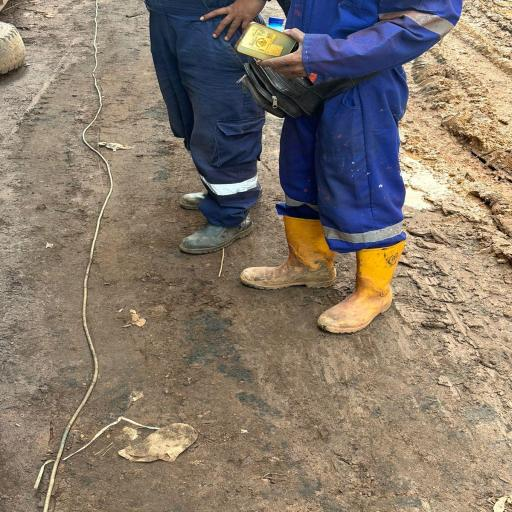safety_shoe: (311, 242, 399, 334), (239, 213, 340, 288), (170, 214, 261, 254)
